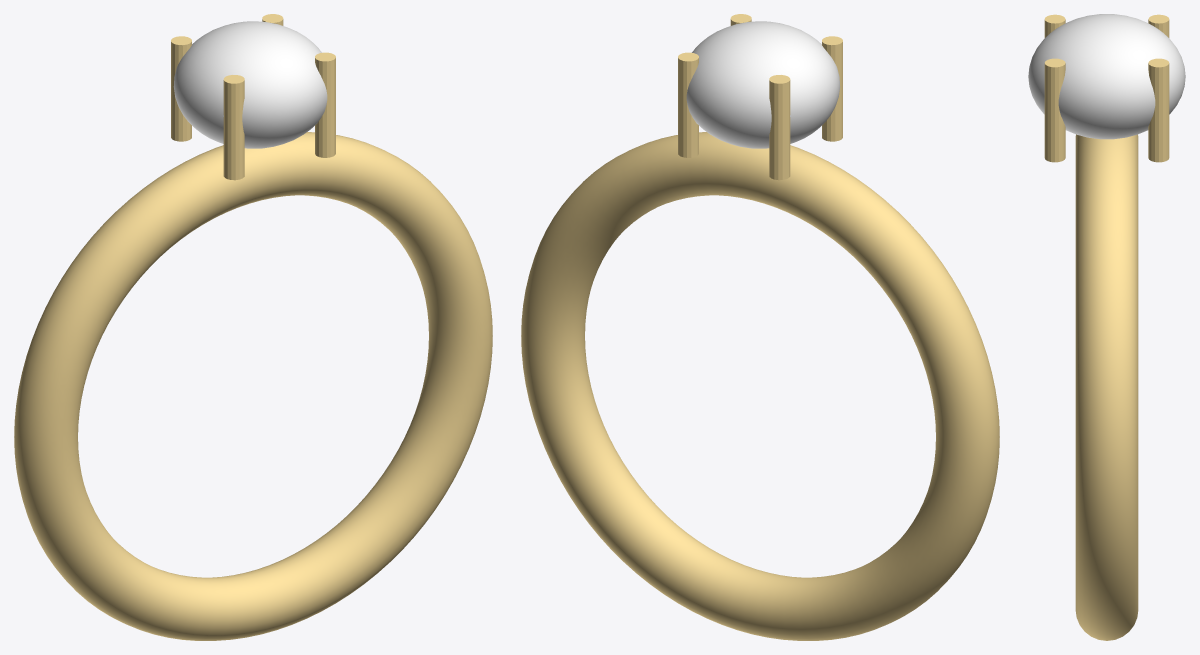
The model's file is anello_test.fbx.
3 views of the same model, side by side, from view 1: azimuth 30°, elevation 25°; view 2: azimuth 150°, elevation 25°; view 3: azimuth 270°, elevation 25° (orthographic).
Parts seen in each view (by area): view 1: Gambo, Diamante_Centrale, Griffa_03, Griffa_04, Griffa_02; view 2: Gambo, Diamante_Centrale, Griffa_02, Griffa_01, Griffa_03; view 3: Gambo, Diamante_Centrale, Griffa_01, Griffa_04, Griffa_02, Griffa_03.
Part boxes in pixels (bbox=[...]): Gambo: bbox=[14, 132, 492, 640]; Diamante_Centrale: bbox=[173, 21, 327, 148]; Griffa_03: bbox=[223, 75, 244, 180]; Griffa_04: bbox=[315, 52, 335, 157]; Griffa_02: bbox=[171, 36, 191, 141]; Gambo: bbox=[521, 132, 999, 640]; Diamante_Centrale: bbox=[686, 21, 840, 148]; Griffa_02: bbox=[769, 75, 790, 180]; Griffa_01: bbox=[678, 52, 698, 157]; Griffa_03: bbox=[822, 36, 842, 141]; Gambo: bbox=[1075, 134, 1138, 640]; Diamante_Centrale: bbox=[1028, 14, 1185, 139]; Griffa_01: bbox=[1148, 58, 1169, 162]; Griffa_04: bbox=[1044, 58, 1065, 162]; Griffa_02: bbox=[1148, 14, 1169, 37]; Griffa_03: bbox=[1044, 14, 1065, 37].
Size of the model in its own units: 2.04 by 2.5 by 0.6.
